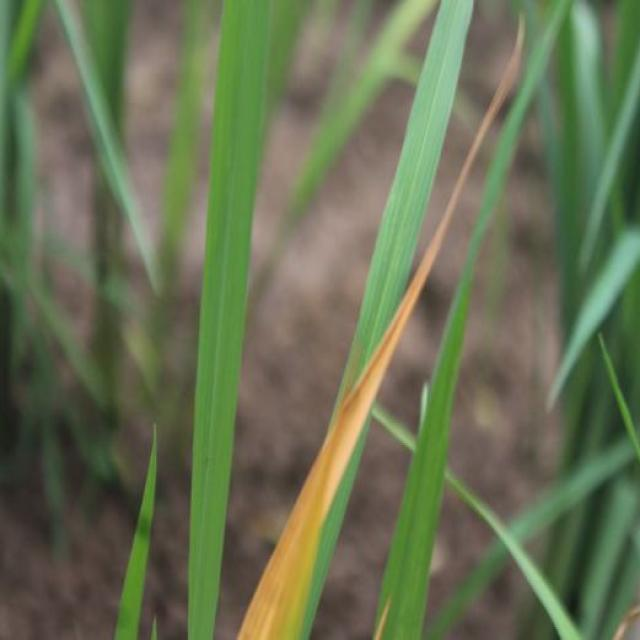Rice Tungro: (329, 273, 412, 487)
